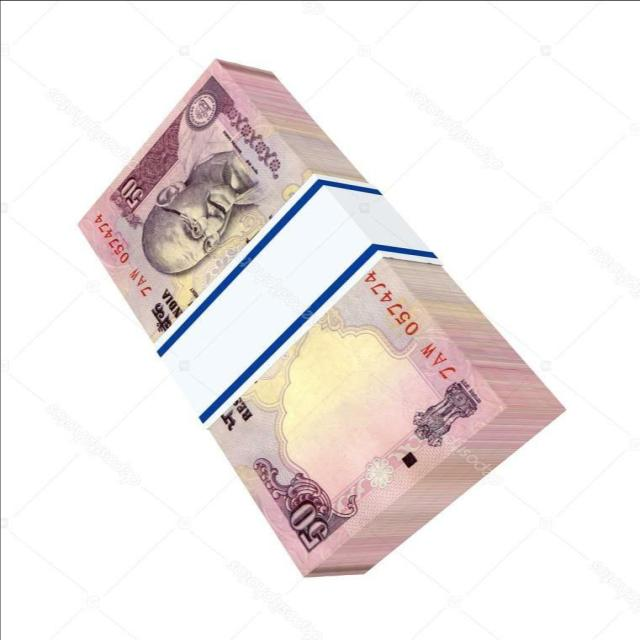50IndianRupees: (81, 67, 511, 583)
